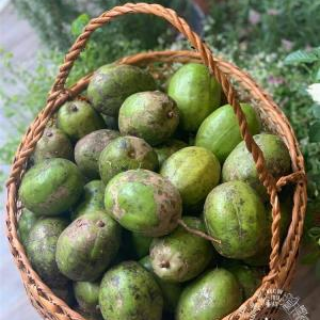coc: (104, 169, 181, 238), (204, 182, 266, 257), (56, 211, 117, 282), (17, 157, 85, 215)
